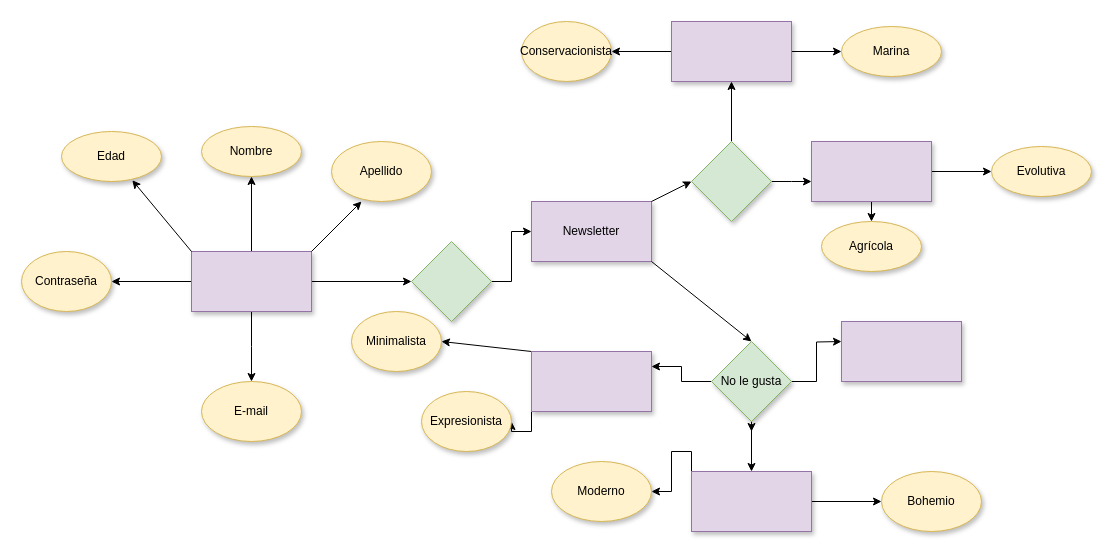
The diagram is 1115 pixels wide and 556 high, and some of its shapes have lost their labels. Each missing label, with the centre of its shape:
Arte: the point at 592,382
Biologia: the point at 732,52
Deportes: the point at 902,352
Diseño: the point at 752,502
Ecologia: the point at 872,172
Le interesa: the point at 732,182
Se registra en: the point at 452,282
Usuario: the point at 252,282
